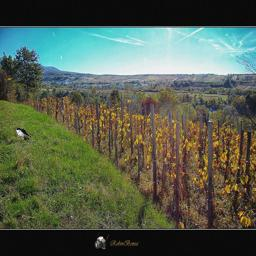Swallow: (15, 128, 31, 140)
